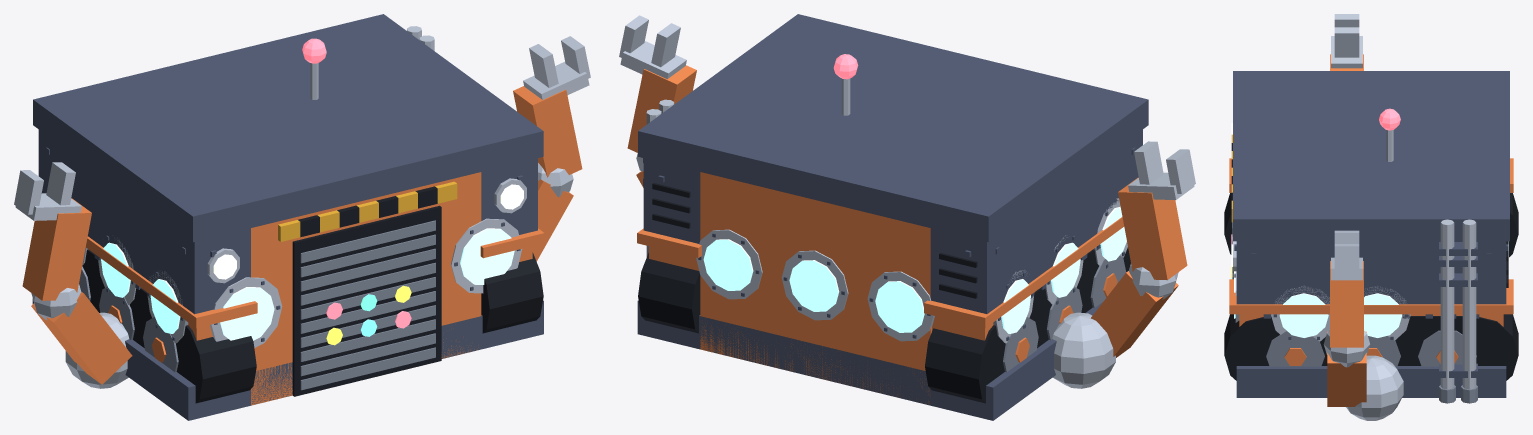
Rendered from robotics.glb.
3 renders of one model, left to right at view 1: azimuth 30°, elevation 25°; view 2: azimuth 150°, elevation 25°; view 3: azimuth 270°, elevation 25°, orthographic. The views are drawn at different scales.
Visible parts, largest first — view 1: robotics_base, robotics_middle, robotics_top_arm_left, robotics_top, robotics_top_arm_right; view 2: robotics_base, robotics_middle, robotics_top, robotics_top_arm_left, robotics_top_arm_right; view 3: robotics_base, robotics_middle, robotics_top, robotics_top_arm_right, robotics_top_arm_left.
Boxes of the visible parts, x1,y1,x2,y2 form: robotics_base: [33, 14, 544, 405]; robotics_middle: [33, 112, 543, 379]; robotics_top_arm_left: [14, 162, 132, 384]; robotics_top: [32, 38, 543, 420]; robotics_top_arm_right: [513, 36, 590, 261]; robotics_base: [637, 14, 1148, 404]; robotics_middle: [638, 112, 1148, 379]; robotics_top: [637, 54, 1115, 420]; robotics_top_arm_left: [1091, 141, 1195, 357]; robotics_top_arm_right: [619, 15, 696, 187]; robotics_base: [1224, 71, 1518, 380]; robotics_middle: [1231, 230, 1509, 389]; robotics_top: [1236, 108, 1506, 420]; robotics_top_arm_right: [1323, 230, 1370, 406]; robotics_top_arm_left: [1330, 14, 1363, 70].
Size of the model in its own units: 4.59 by 2.21 by 2.4.
